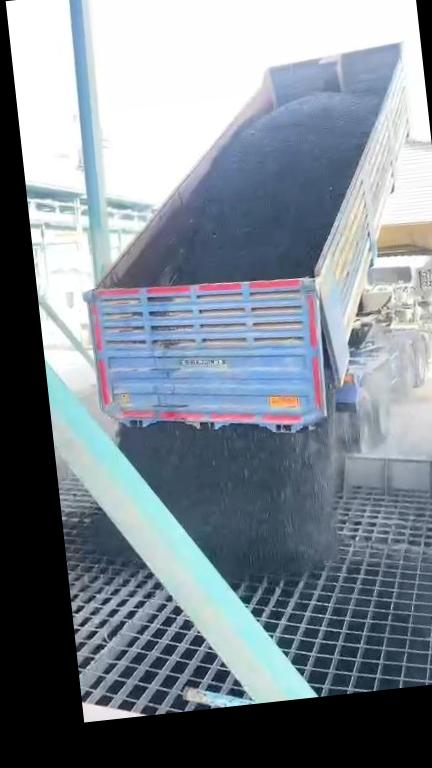gravel: (171, 59, 380, 283), (119, 422, 342, 578), (87, 513, 135, 558)
